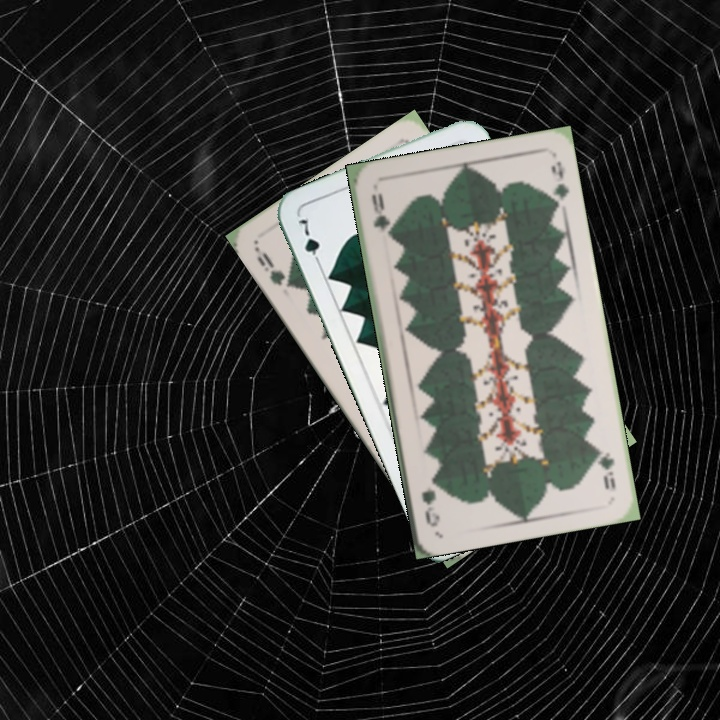G7: (294, 211, 324, 270)
G9: (251, 244, 298, 291), (591, 441, 618, 492), (367, 188, 393, 240)
